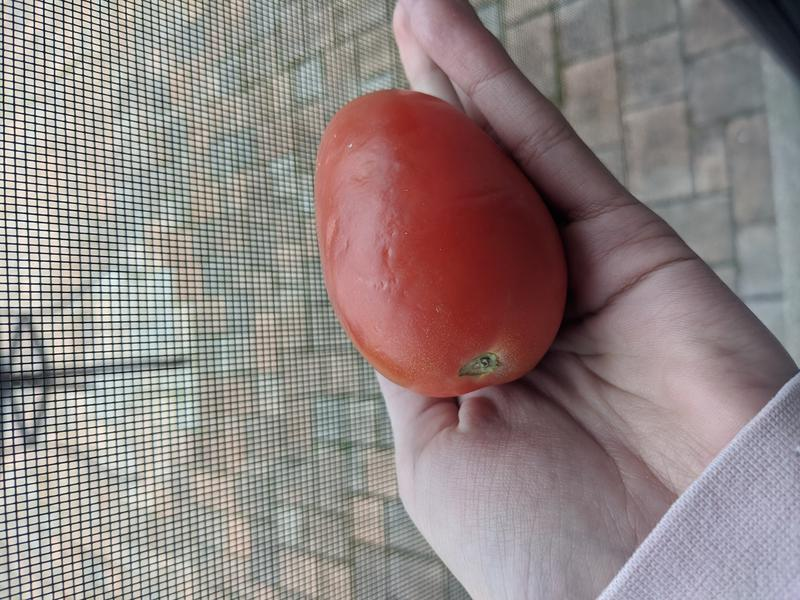tomato: (313, 88, 568, 398)
